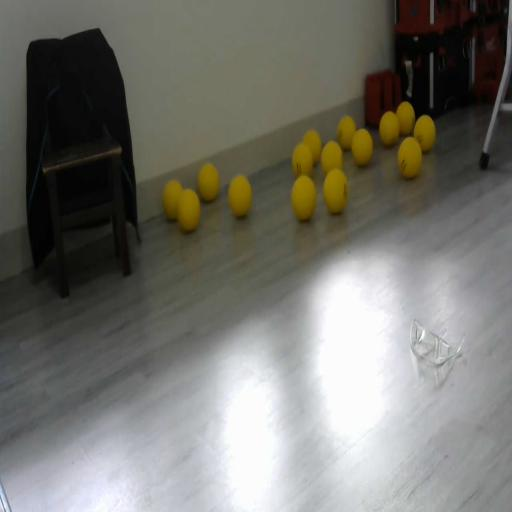FUEL: (290, 174, 317, 221), (322, 168, 348, 214), (227, 174, 252, 218), (397, 136, 422, 178), (412, 114, 436, 153), (162, 179, 184, 221), (320, 139, 344, 176), (198, 162, 220, 202), (351, 128, 373, 166), (378, 110, 400, 147), (302, 129, 322, 166), (395, 101, 415, 135), (338, 115, 356, 151)
